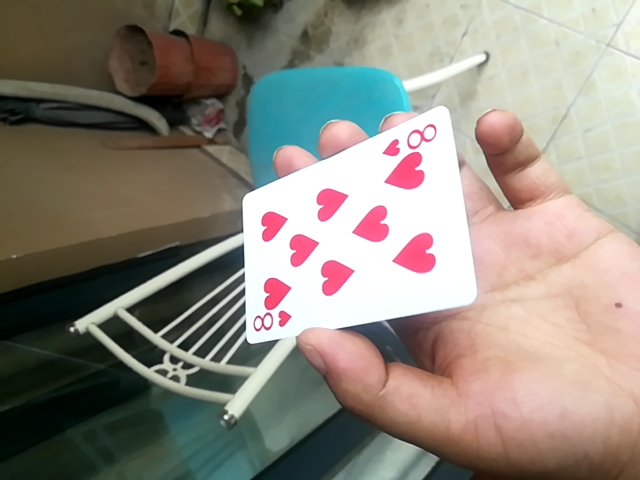hx 8: (238, 107, 471, 349)
